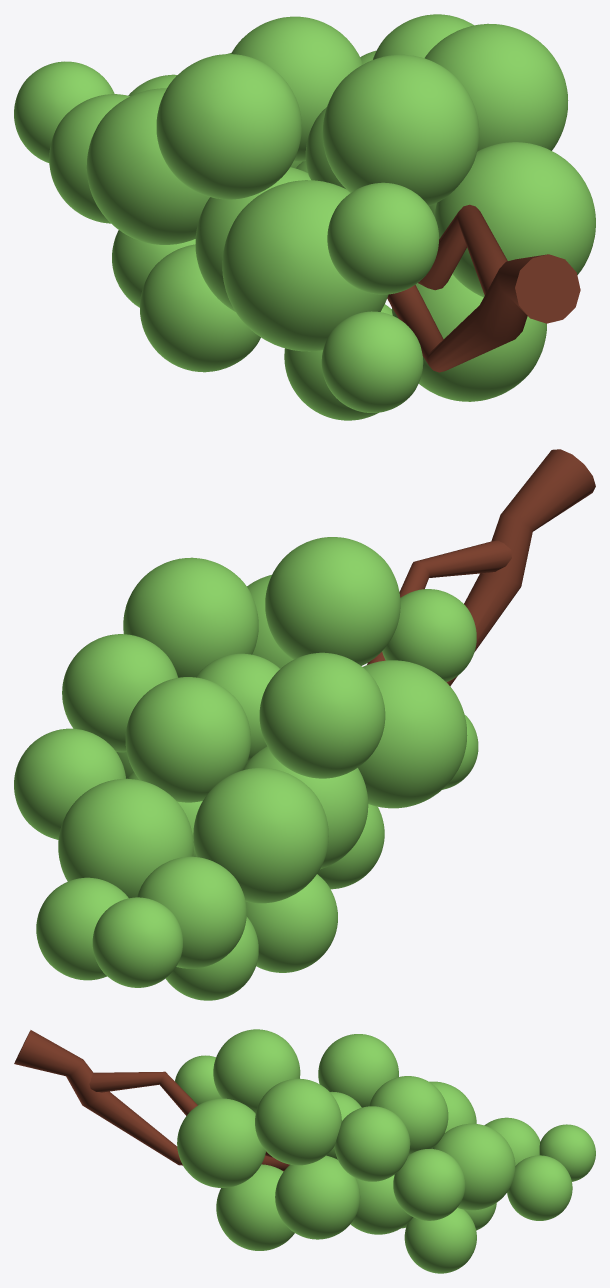
The model's file is Uva.fbx.
3 renders of one model, top to bottom at view 1: azimuth 30°, elevation 25°; view 2: azimuth 150°, elevation 25°; view 3: azimuth 270°, elevation 25°, orthographic. The views are drawn at different scales.
Parts seen in each view (by area): view 1: Uvas, Ramo; view 2: Uvas, Ramo; view 3: Uvas, Ramo.
Part boxes in pixels (x1,y1,x2,y2): Uvas: (14, 14, 595, 420); Ramo: (387, 204, 580, 372); Uvas: (14, 537, 478, 1000); Ramo: (367, 449, 595, 686); Uvas: (175, 1029, 595, 1273); Ramo: (14, 1030, 289, 1171).
Bounding box in the file's own units: 42.36 × 43.25 × 105.
